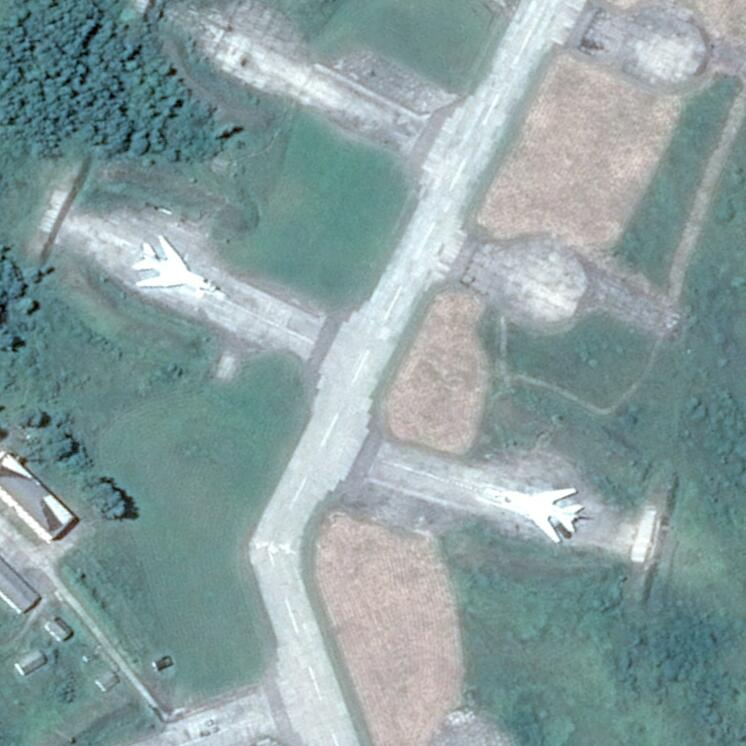A12: (480, 477, 583, 545), (130, 233, 222, 298)
